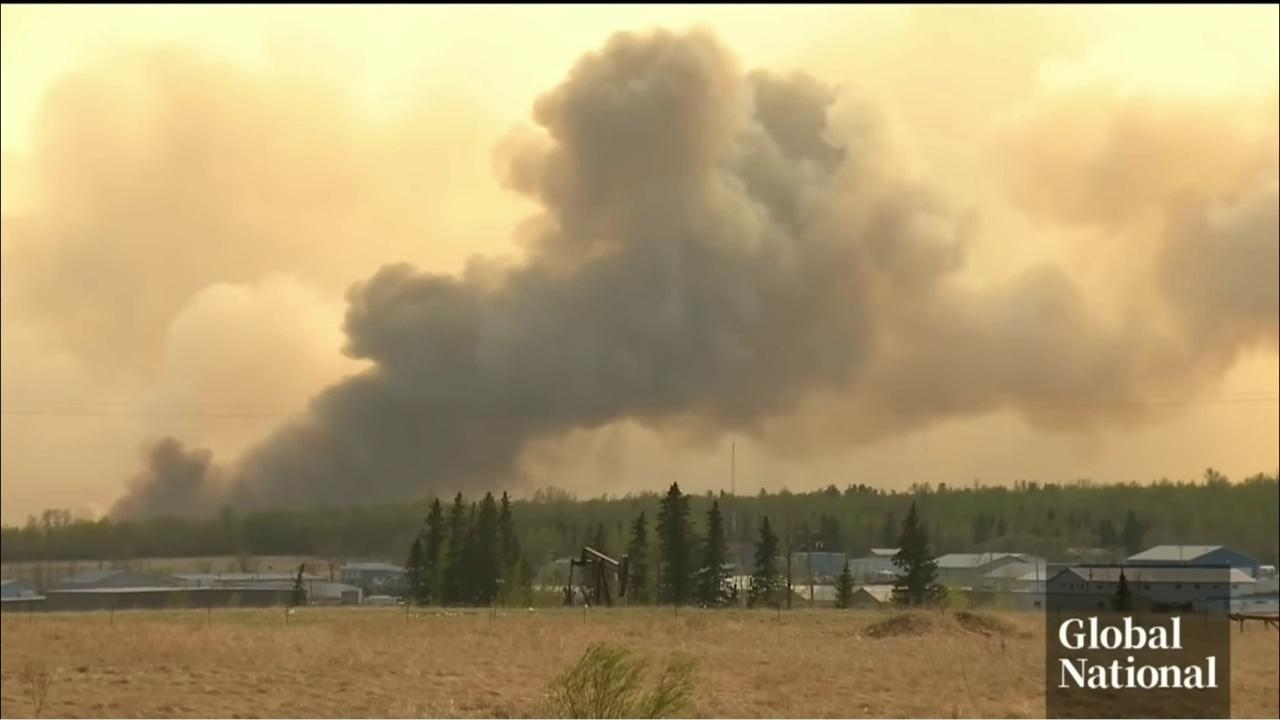smoke: (97, 19, 1280, 522)
